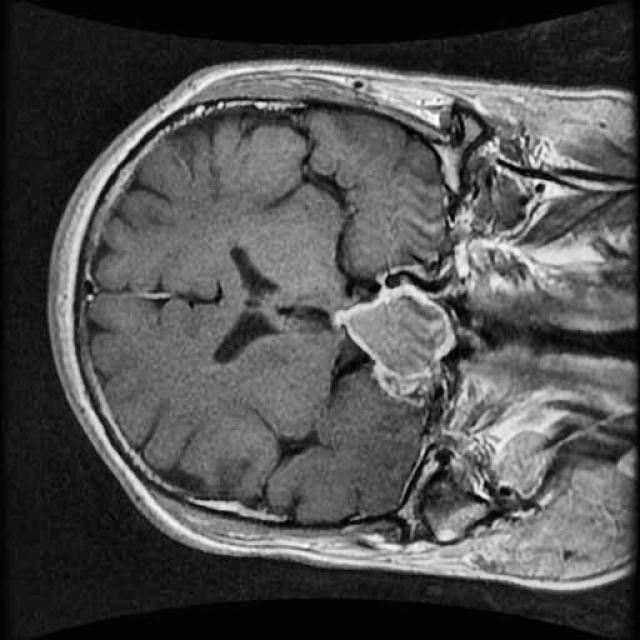Tumor: (320, 272, 465, 409)
